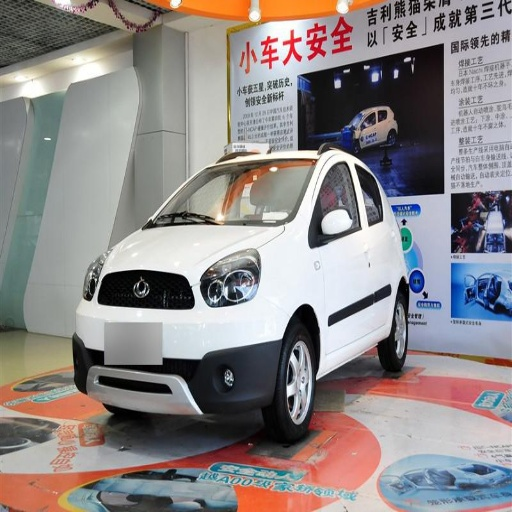front_bumper: (76, 262, 289, 418)
front_glass: (145, 161, 313, 227)
front_left_door: (311, 155, 373, 355)
